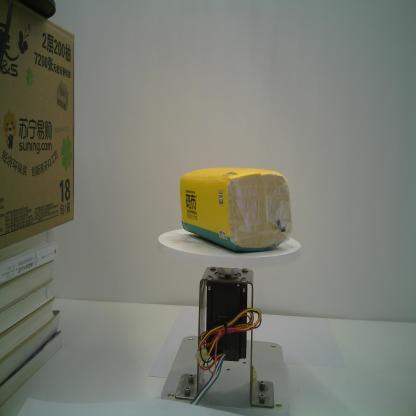Tissue: (179, 164, 293, 255)
